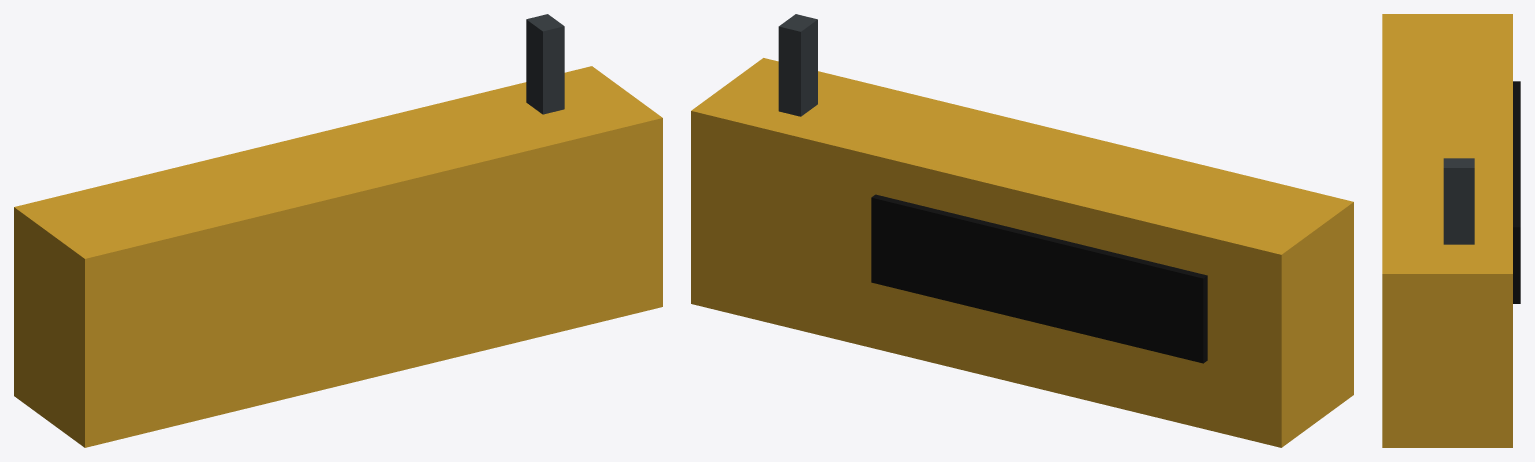
Rendered from mobile_crane_power_cowl.glb.
3 renders of one model, left to right at view 1: azimuth 30°, elevation 25°; view 2: azimuth 150°, elevation 25°; view 3: azimuth 270°, elevation 25°, orthographic. The views are drawn at different scales.
Visible parts, largest first — view 1: body:compound; view 2: body:compound; view 3: body:compound.
Part boxes in pixels (x1,y1,x2,y2): body:compound: (14,14,662,447); body:compound: (691,14,1353,447); body:compound: (1382,14,1520,447).
Size of the model in its own units: 2.5 by 1.12 by 0.5625.
